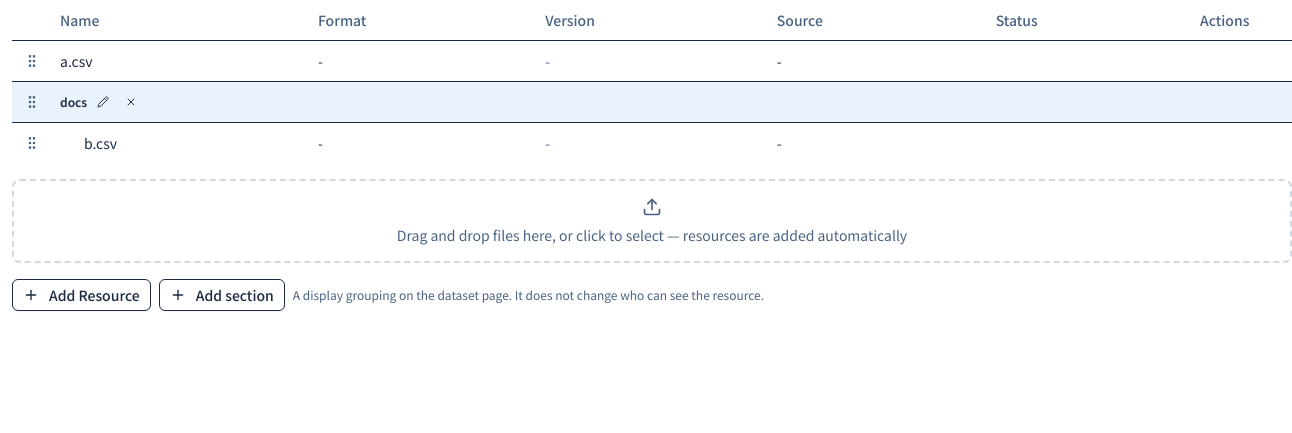
Test case: ResourceList drag and drop with sections › keeps more than one empty heading at a time
Step 1. Click the button "Add section" → point(222, 294), box [159, 278, 285, 310]
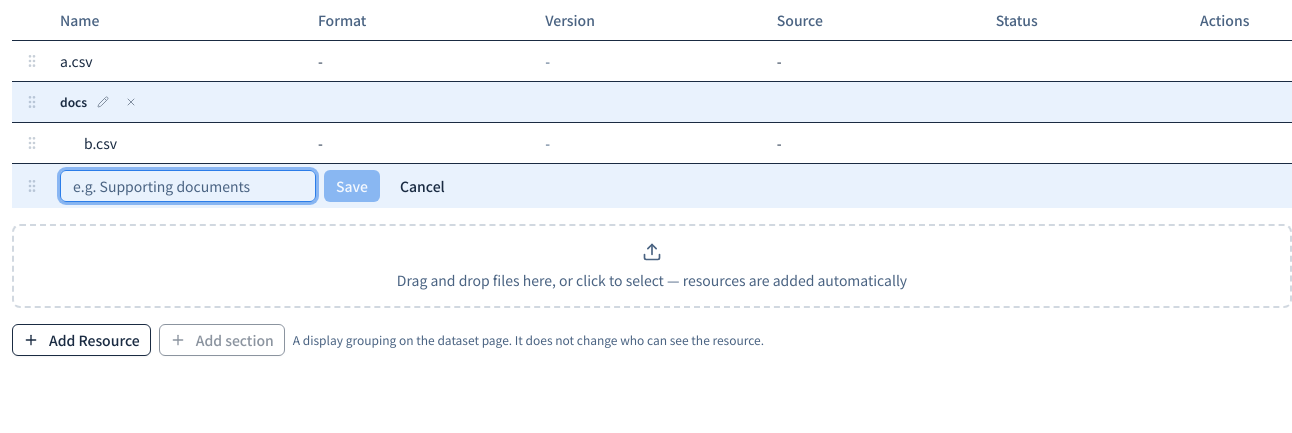
Step 2. Type "raw data" into the field named "Section name" → point(188, 186), box [60, 170, 316, 202]
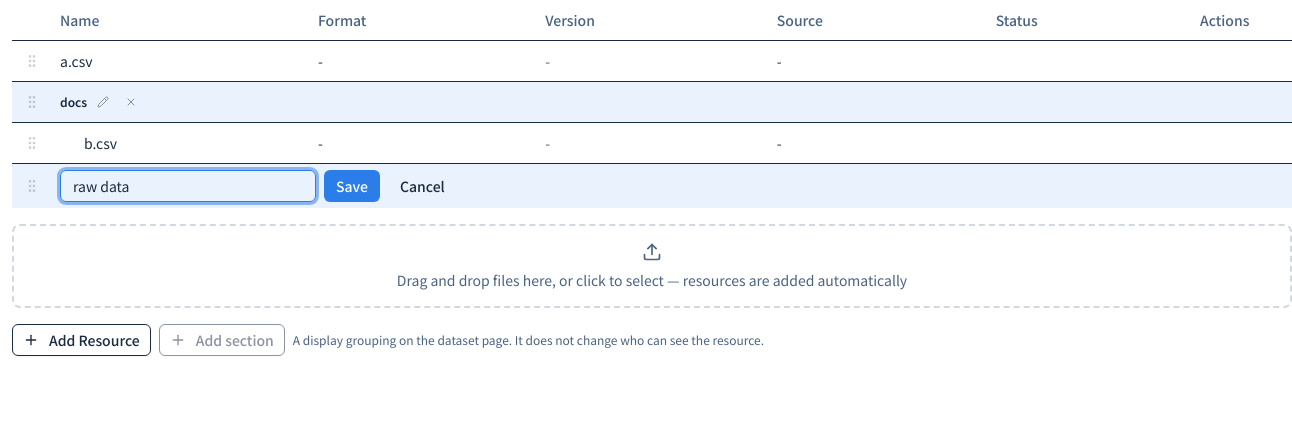
Step 3. Click the button "Save" → point(352, 186), box [324, 170, 380, 202]
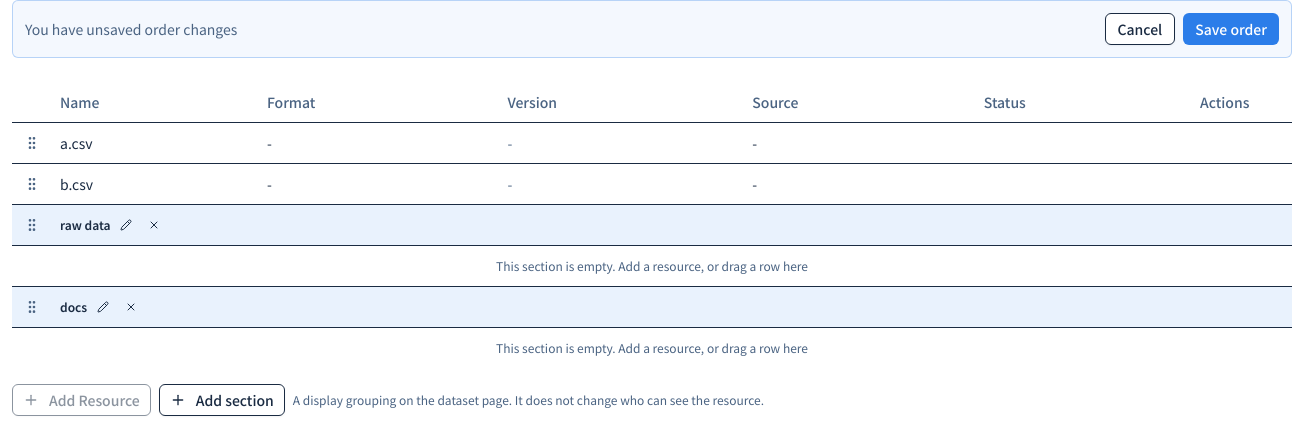
Check: the text "docs" is shown, box [60, 298, 87, 314]
Check: the text "raw data" is shown, box [60, 216, 110, 232]
Check: the text "This section is empty. Add a resource, or drag a row here" is shown 2 times, box [12, 245, 1291, 286]; [12, 327, 1291, 368]
